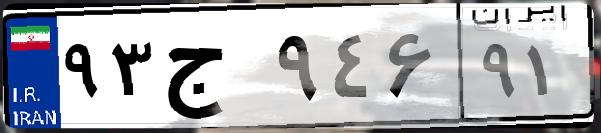1: (525, 38, 570, 115)
3: (110, 28, 158, 98)
4: (330, 28, 385, 110)
6: (385, 28, 445, 110)
9: (270, 28, 330, 110), (57, 26, 110, 100), (475, 38, 525, 113)
ج: (158, 20, 270, 120)
